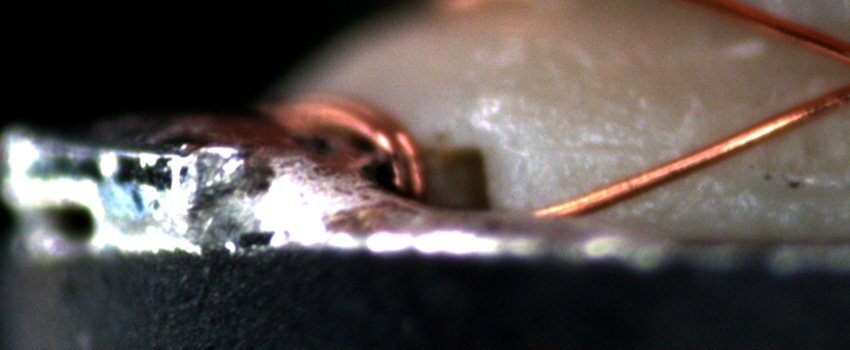DL: (535, 120, 674, 170)
TE: (263, 88, 437, 202)
